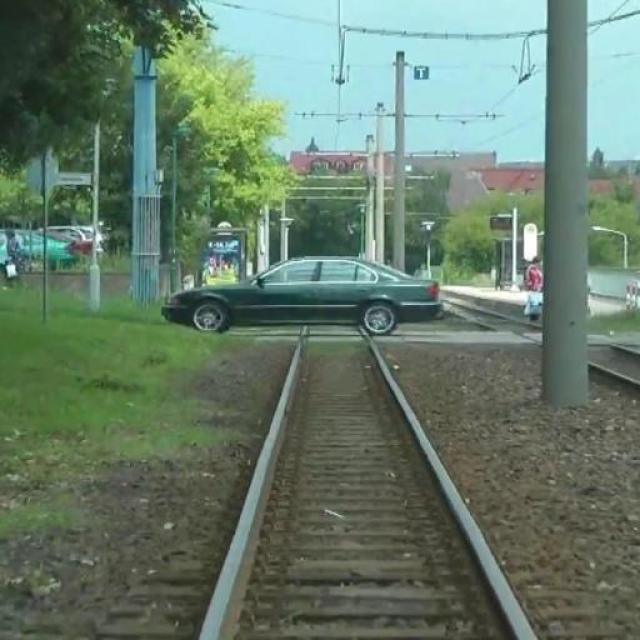people: (2, 226, 32, 295), (524, 254, 546, 322)
vehicle: (160, 248, 454, 336)
